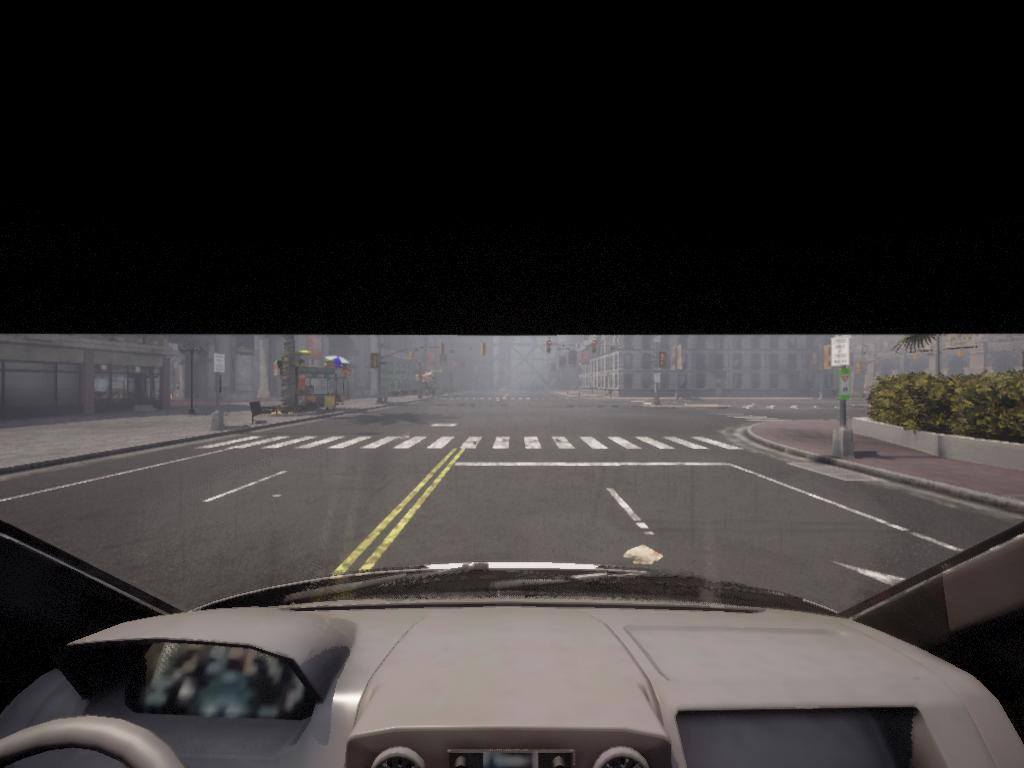traffic_light: (659, 352, 668, 371), (592, 340, 598, 355), (441, 342, 447, 356), (547, 342, 553, 355), (483, 343, 488, 358), (411, 351, 414, 363)
